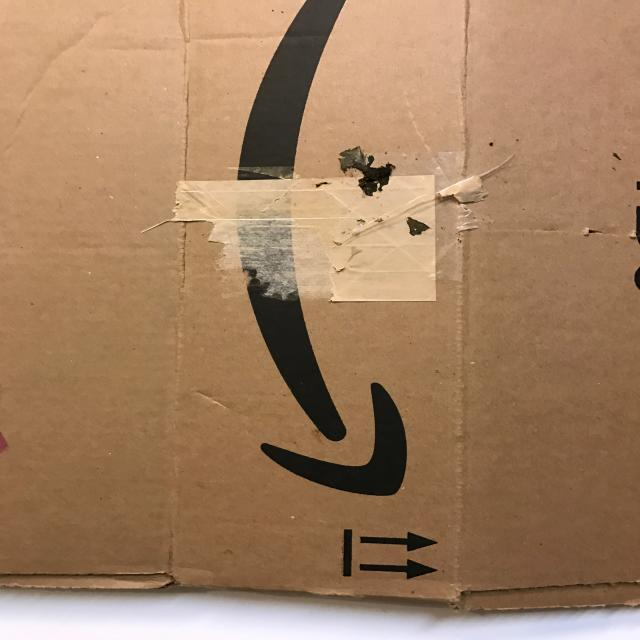cardboard: (2, 1, 638, 613)
